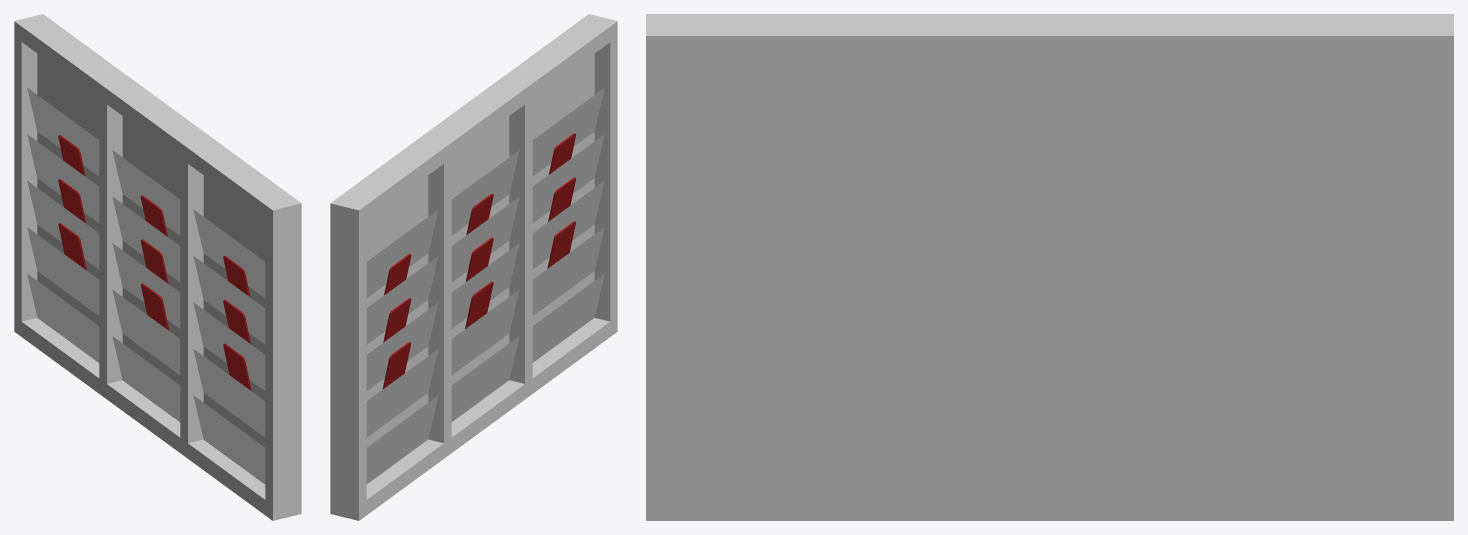
3 views of the same model, side by side, from view 1: azimuth 30°, elevation 25°; view 2: azimuth 150°, elevation 25°; view 3: azimuth 270°, elevation 25° (orthographic). The views are drawn at different scales.
Parts seen in each view (by area): view 1: Curve.004, Curve.011; view 2: Curve.004, Curve.011; view 3: Curve.004.
Boxes of the visible parts, bbox=[...] form: Curve.004: bbox=[14, 14, 301, 520]; Curve.011: bbox=[58, 135, 251, 391]; Curve.004: bbox=[330, 14, 617, 520]; Curve.011: bbox=[382, 133, 575, 389]; Curve.004: bbox=[646, 14, 1453, 520].
Bounding box in the file's own units: 19.47 × 200 × 301.
